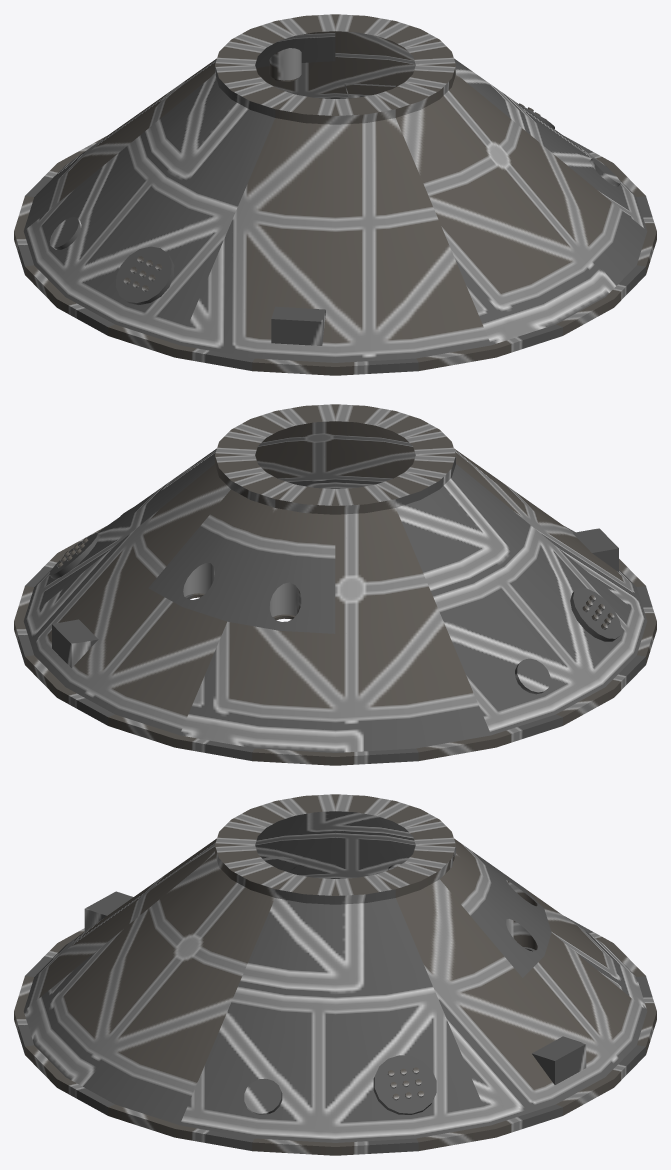
The model's file is big crew narrow adapter naked.obj.
The picture shows the model from 3 angles, top to bottom: view 1: azimuth 30°, elevation 25°; view 2: azimuth 150°, elevation 25°; view 3: azimuth 270°, elevation 25°; orthographic projection.
Visible parts, largest first — view 1: 1.009; view 2: 1.009; view 3: 1.009.
Boxes of the visible parts, box(x1,y1,x2,y2) form: 1.009: box(14, 14, 656, 375); 1.009: box(14, 404, 656, 765); 1.009: box(14, 794, 656, 1155).
Bounding box in the file's own units: 2.5 × 0.75 × 2.5.
